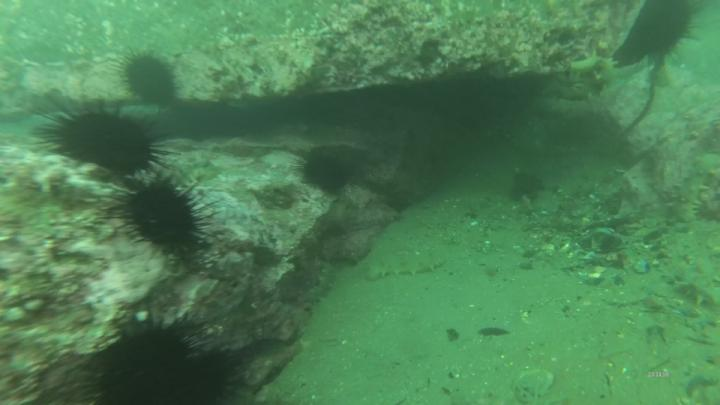echinus: (77, 303, 250, 405), (32, 93, 185, 181), (104, 171, 220, 270), (117, 46, 185, 105), (295, 149, 359, 201)
holothurian: (365, 252, 450, 285), (304, 259, 339, 311)
